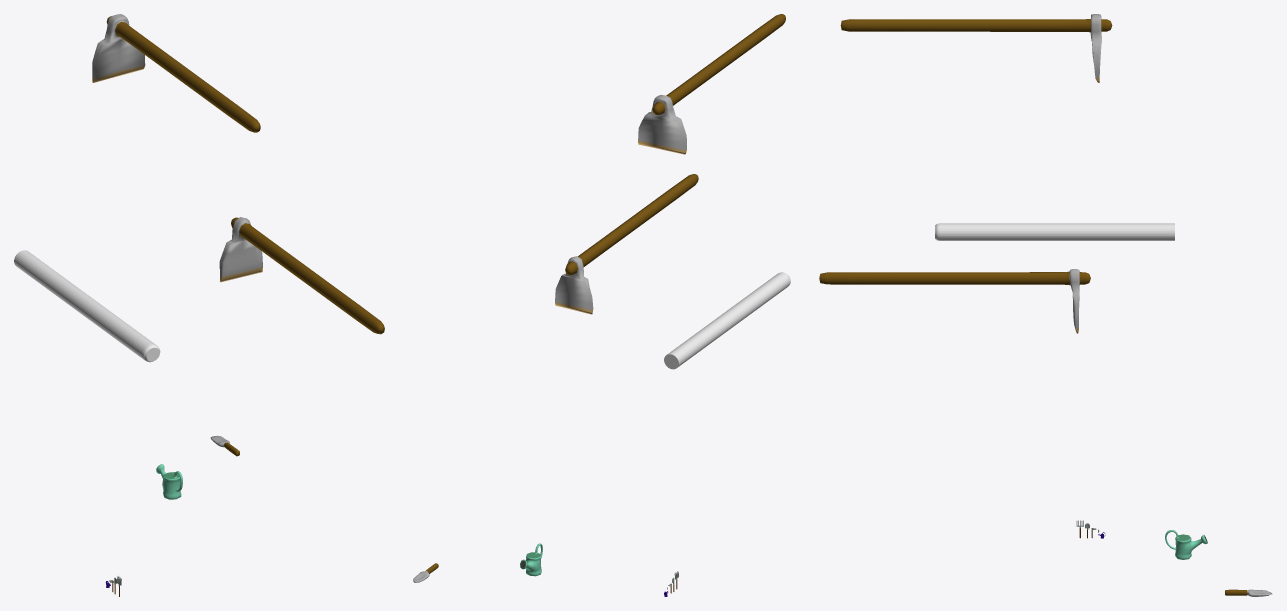
File: garden tools final.fbx
3 views of the same model, side by side, from view 1: azimuth 30°, elevation 25°; view 2: azimuth 150°, elevation 25°; view 3: azimuth 270°, elevation 25° (orthographic). The views are drawn at different scales.
Visible parts, largest first — view 1: Cube.001, Cube.005, Cylinder, Cube.002; view 2: Cube.001, Cube.005, Cylinder; view 3: Cylinder, Cube.001, Cube.005, Cube.002.
Part boxes in pixels (bbox=[...]): Cube.001: bbox=[92, 14, 260, 132]; Cube.005: bbox=[219, 217, 384, 334]; Cylinder: bbox=[14, 250, 160, 362]; Cube.002: bbox=[156, 464, 182, 499]; Cube.001: bbox=[638, 14, 785, 154]; Cube.005: bbox=[555, 174, 698, 314]; Cylinder: bbox=[664, 272, 790, 369]; Cylinder: bbox=[935, 223, 1174, 240]; Cube.001: bbox=[840, 14, 1112, 82]; Cube.005: bbox=[819, 269, 1090, 333]; Cube.002: bbox=[1165, 530, 1207, 559].
Size of the model in its own units: 797 by 1697 by 1324.
